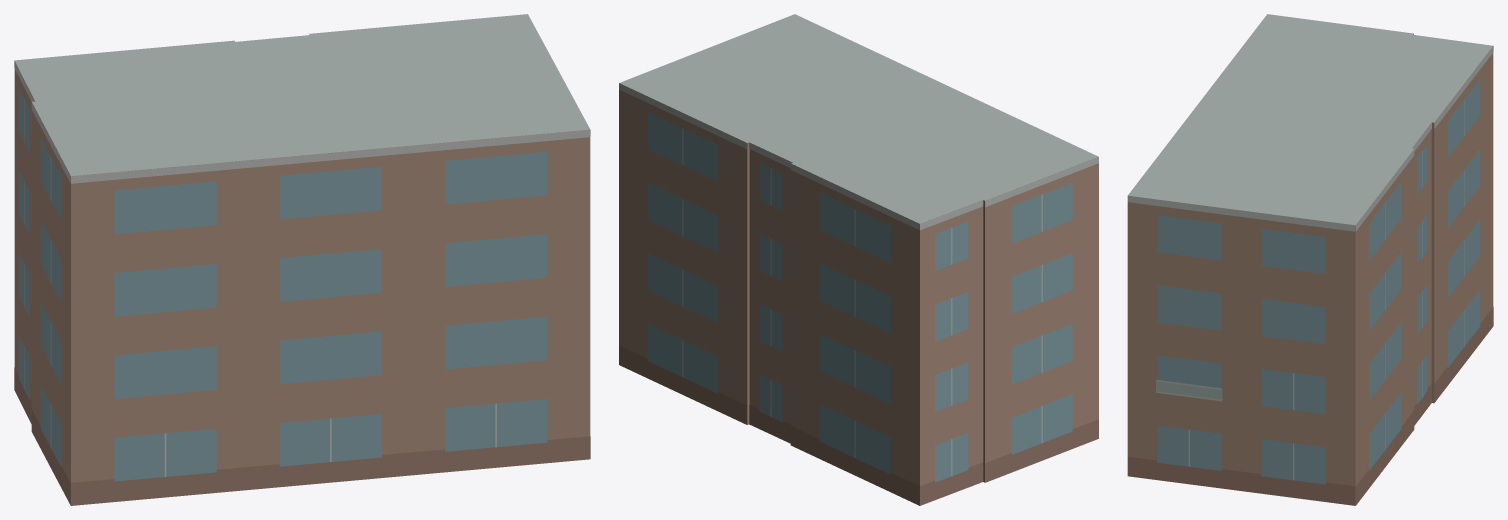
Rendered from survey-upis-32807098.glb.
3 renders of one model, left to right at view 1: azimuth 30°, elevation 25°; view 2: azimuth 150°, elevation 25°; view 3: azimuth 270°, elevation 25°, orthographic. The views are drawn at different scales.
Parts seen in each view (by area): view 1: survey-upis-32807098.tmp; view 2: survey-upis-32807098.tmp; view 3: survey-upis-32807098.tmp.
Boxes of the visible parts, <box> form: survey-upis-32807098.tmp: <box>14,14,590,505</box>; survey-upis-32807098.tmp: <box>619,14,1098,505</box>; survey-upis-32807098.tmp: <box>1127,14,1493,505</box>.
Size of the model in its own units: 17.13 by 10.6 by 12.54.
